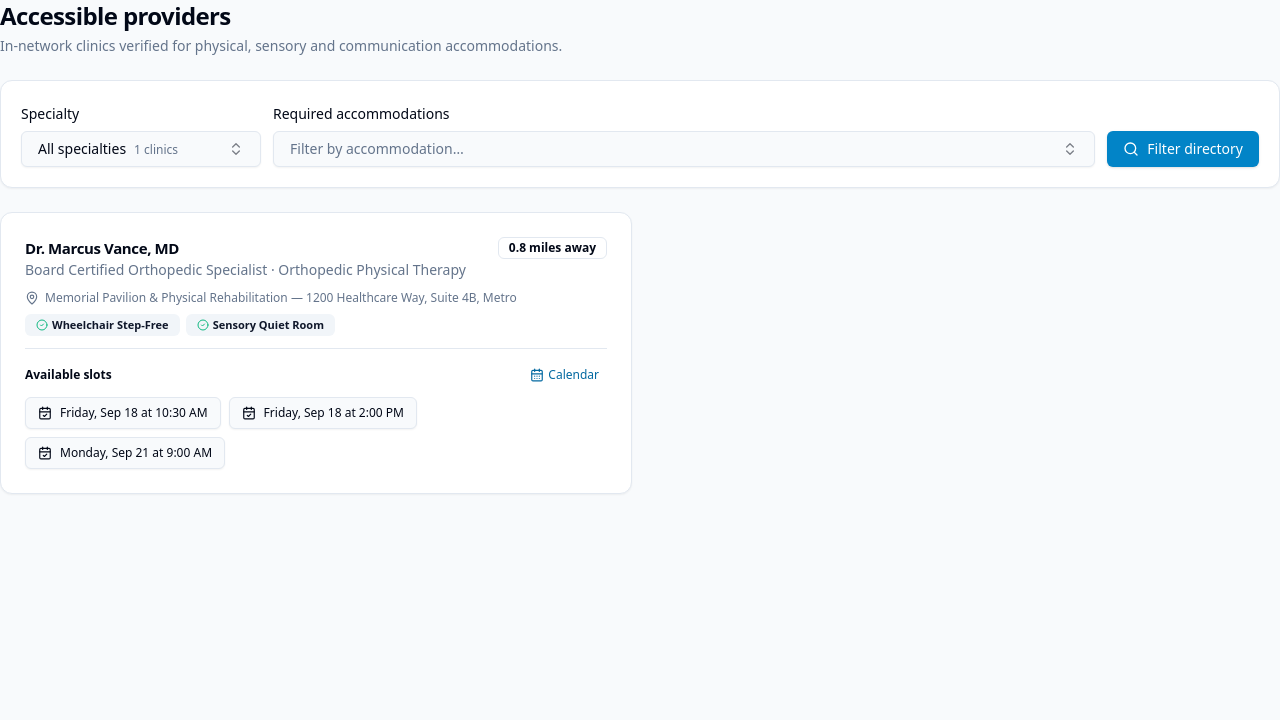
Test case: ProvidersView › opens the Calendly-style picker from a provider card
Click the button with aria-label "open calendar for dr. marcus vance" at (565, 375), box [522, 361, 607, 389]
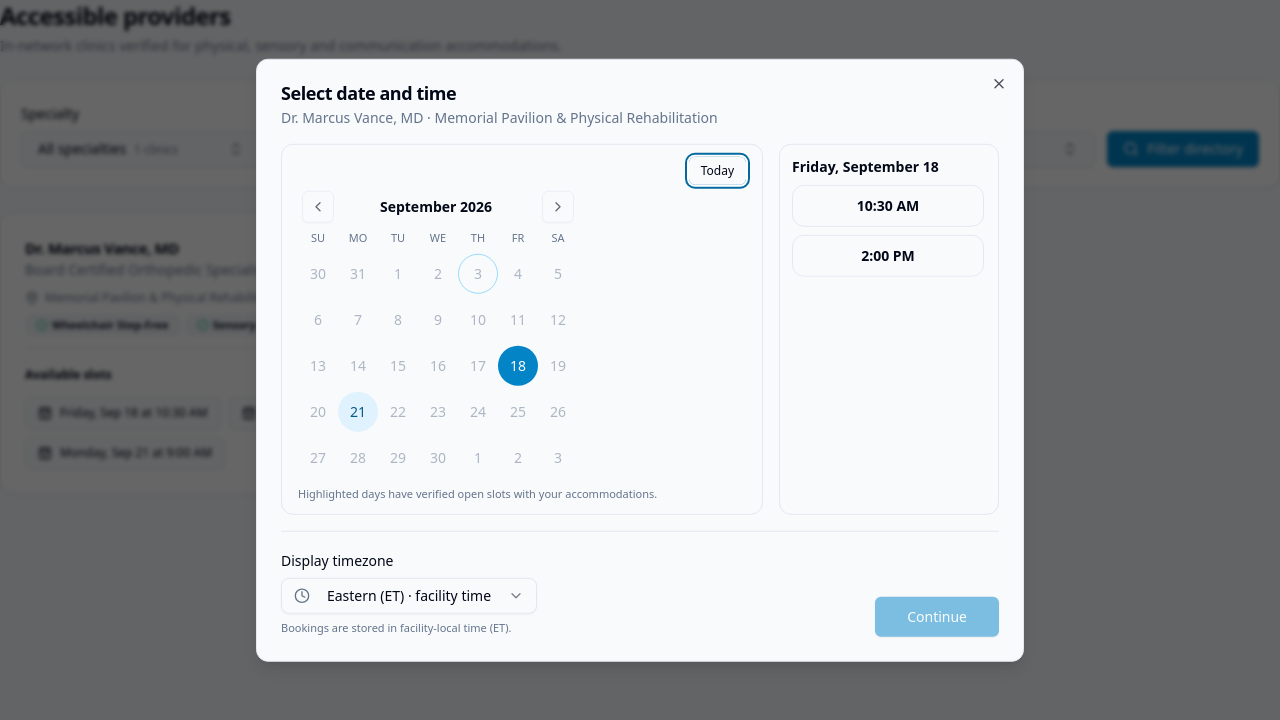
Expected: the heading "Select date and time" is shown, [281, 81, 456, 105]
Expected: the text "September 2026" is shown, [380, 197, 492, 217]
Expected: the button "10:30 AM" is shown, [792, 185, 984, 227]
